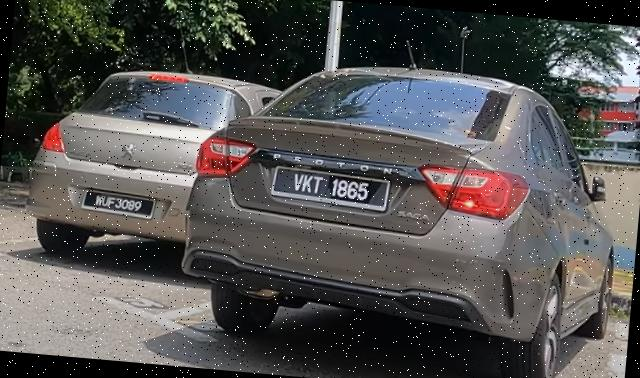License_Plate: (270, 165, 393, 213), (85, 194, 153, 218)
car: (172, 47, 632, 378), (21, 60, 286, 273)
